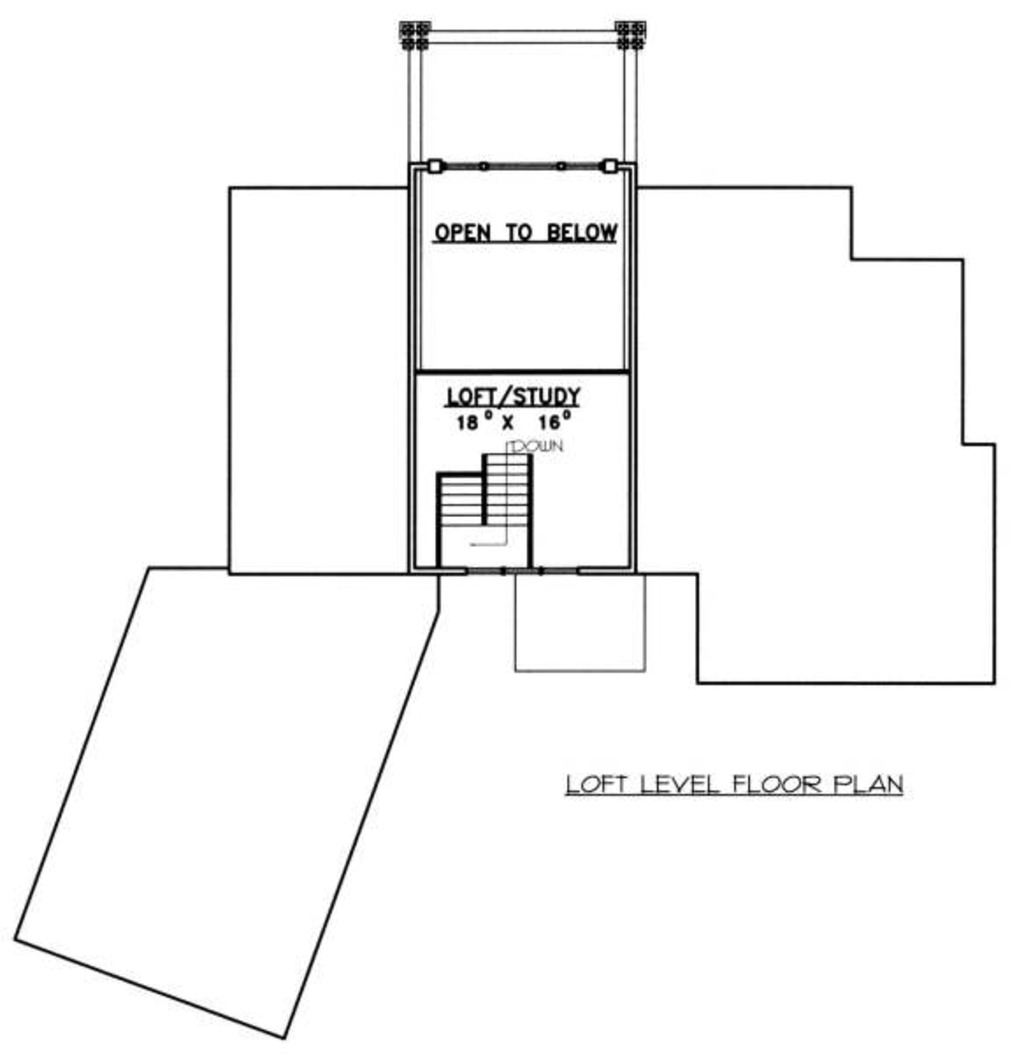stairs: (428, 443, 562, 572)
